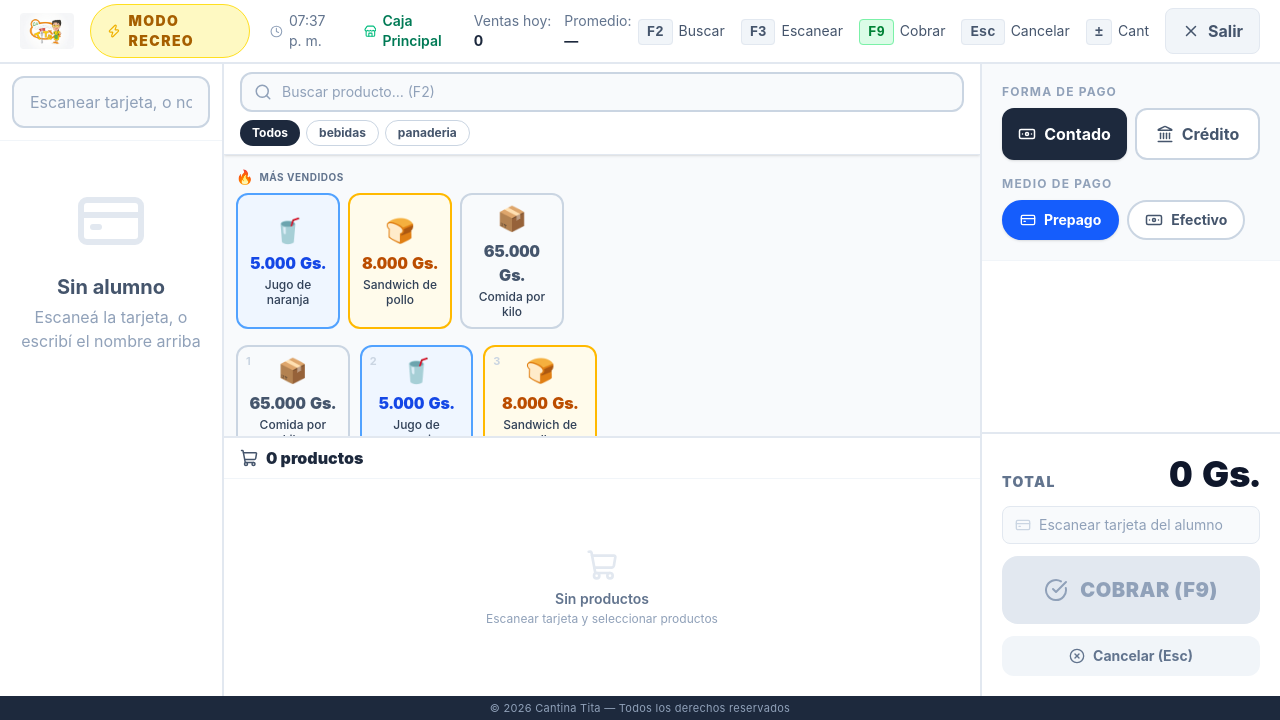
Test case: ModoRecreo — productos por peso (Kg) › reemplaza el stepper +/- por un input de cantidad decimal
Expected: the text "Jugo de naranja" below "Más vendidos" is shown, [265,277,311,307]
Click the button "📦 65.000 Gs. Comida por kilo". click: (512, 261)
box: [460,193,564,329]
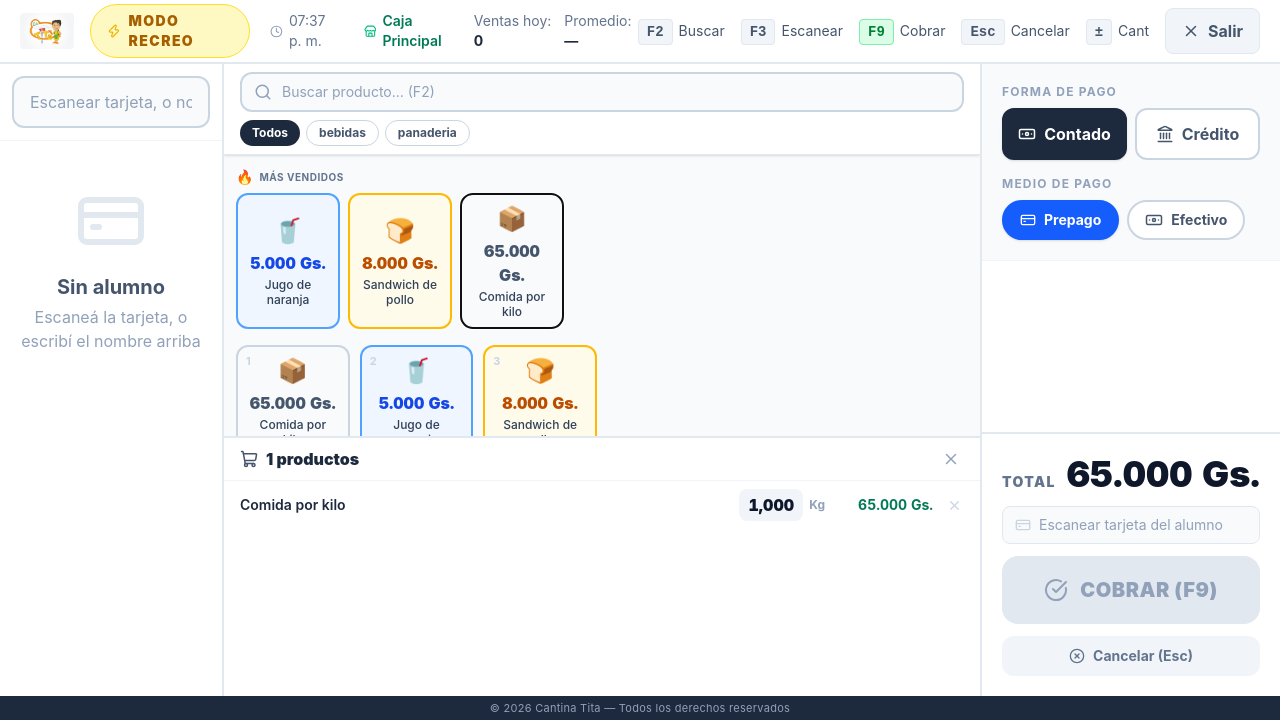
Now the field showing "1,000" is shown, box [739,489,803,521]
